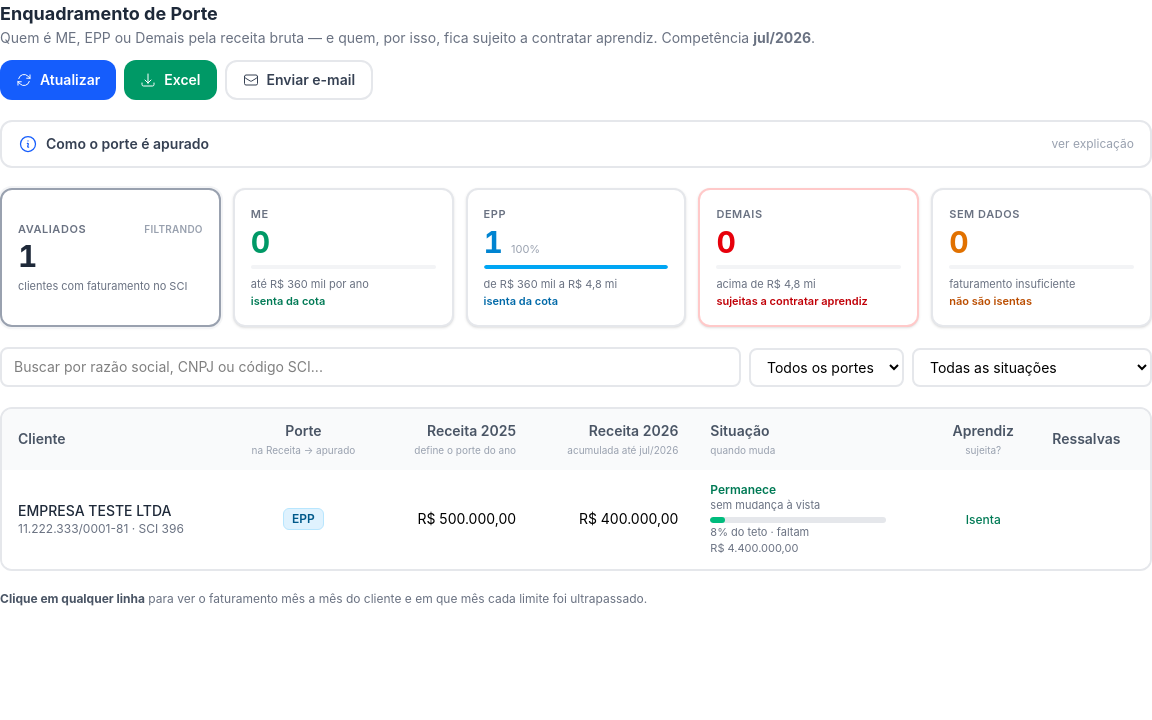
Test case: CotaAprendizagemTab › o envio deixa escolher qual dos dois relatórios sai e para quem
This screenshot has width=1152, height=720.
Expected: the text "EMPRESA TESTE LTDA" is shown, [18,502,172,519]
Click the button "Enviar e-mail" at (299, 80), box [224,60,373,100]
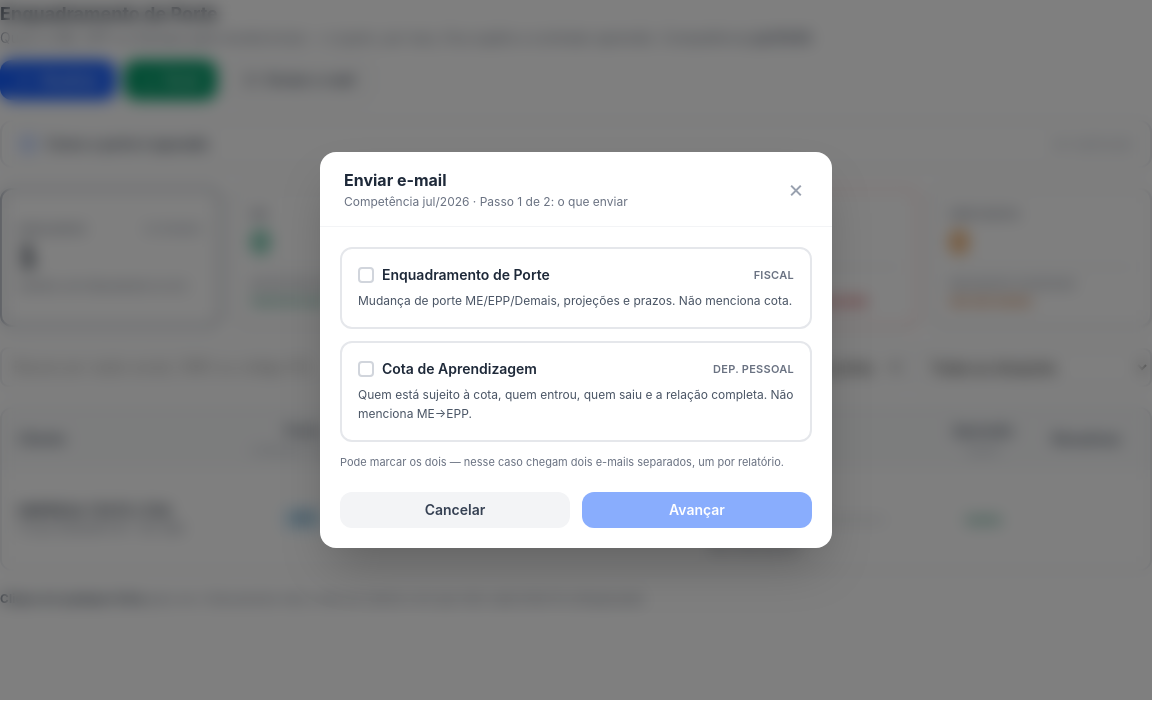
Expected: the checkbox labelled "Enquadramento de Porte" is shown, [340,247,812,329]
Expected: the button "Avançar" is disabled, [582,492,812,528]
Click the checkbox labelled "Cota de Aprendizagem" at (576, 391), box [340,341,812,442]
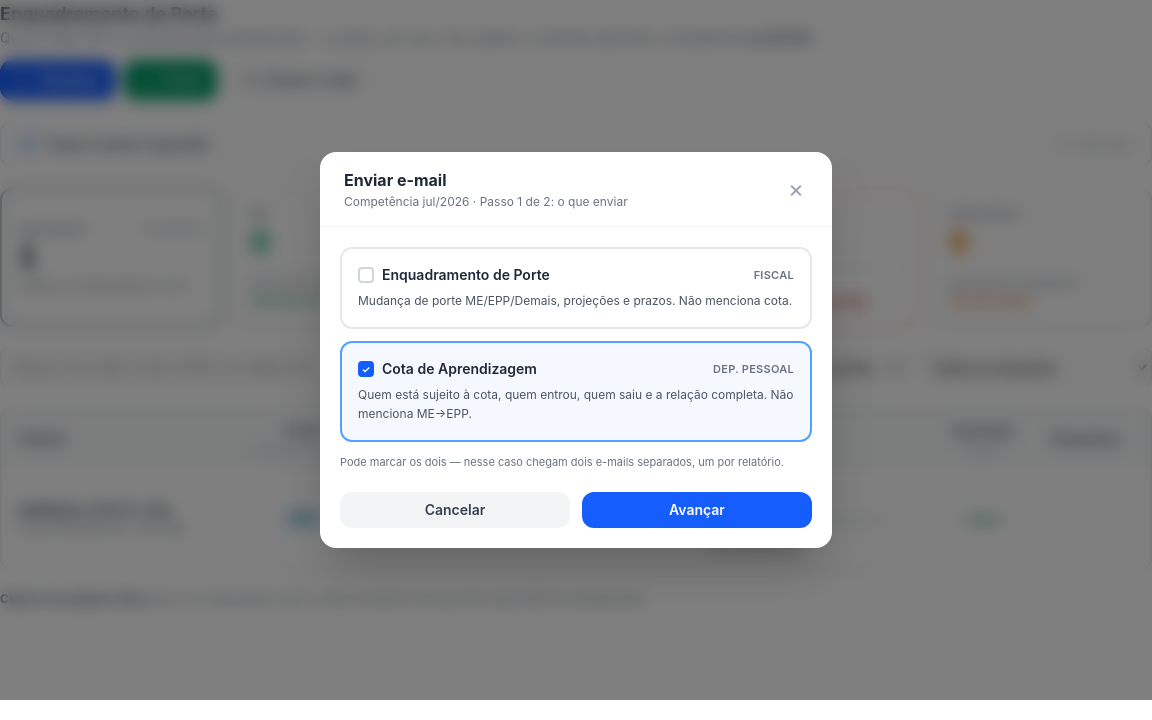
Click the button "Avançar" at (697, 510), box [582,492,812,528]
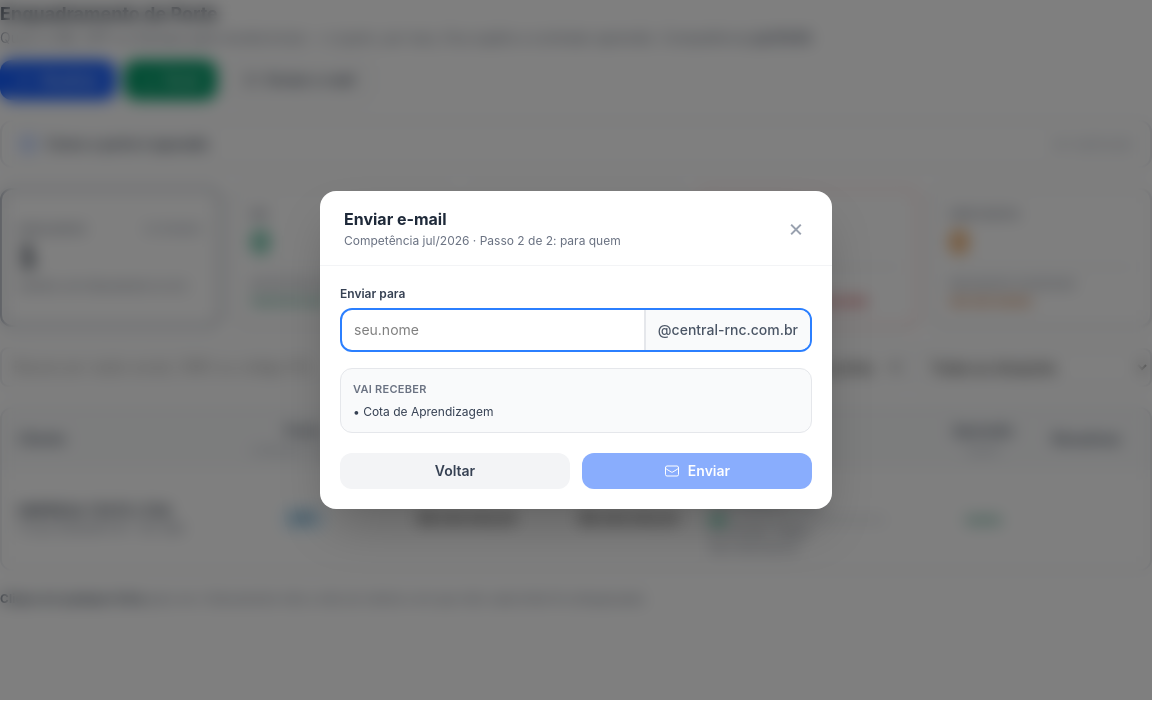
Type "bruno" into the field labelled "Enviar para" at (493, 330), box [342,310,644,350]
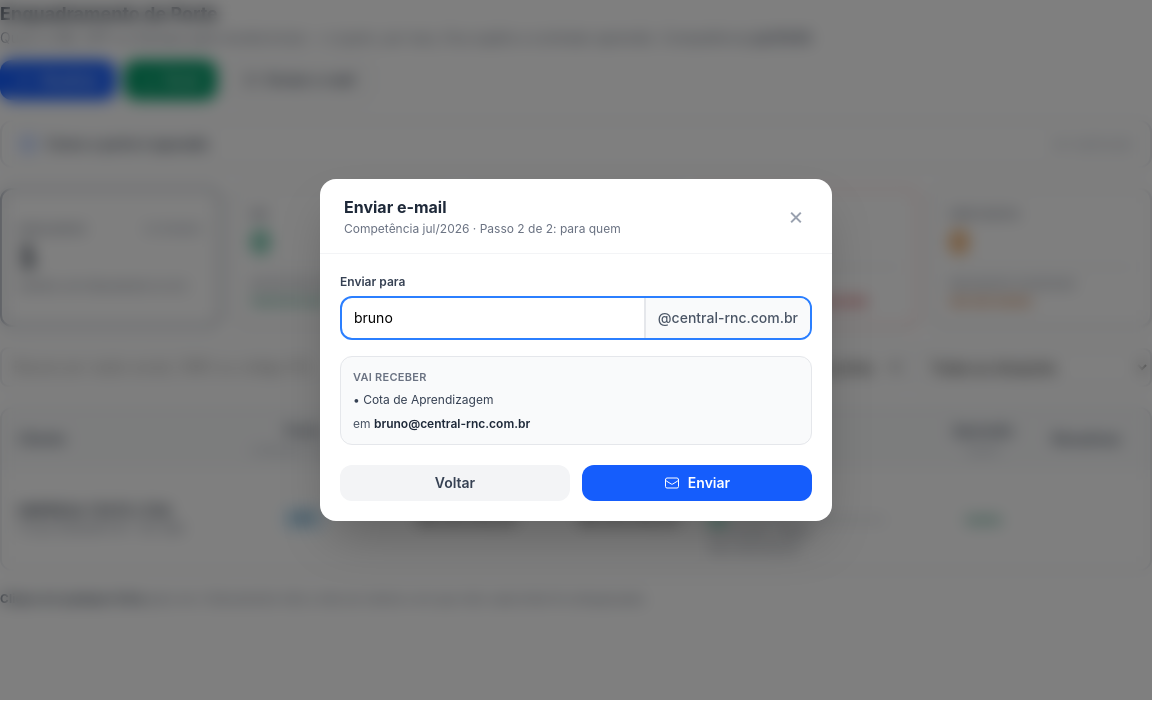
Click the button "Enviar" at (697, 483), box [582,465,812,501]
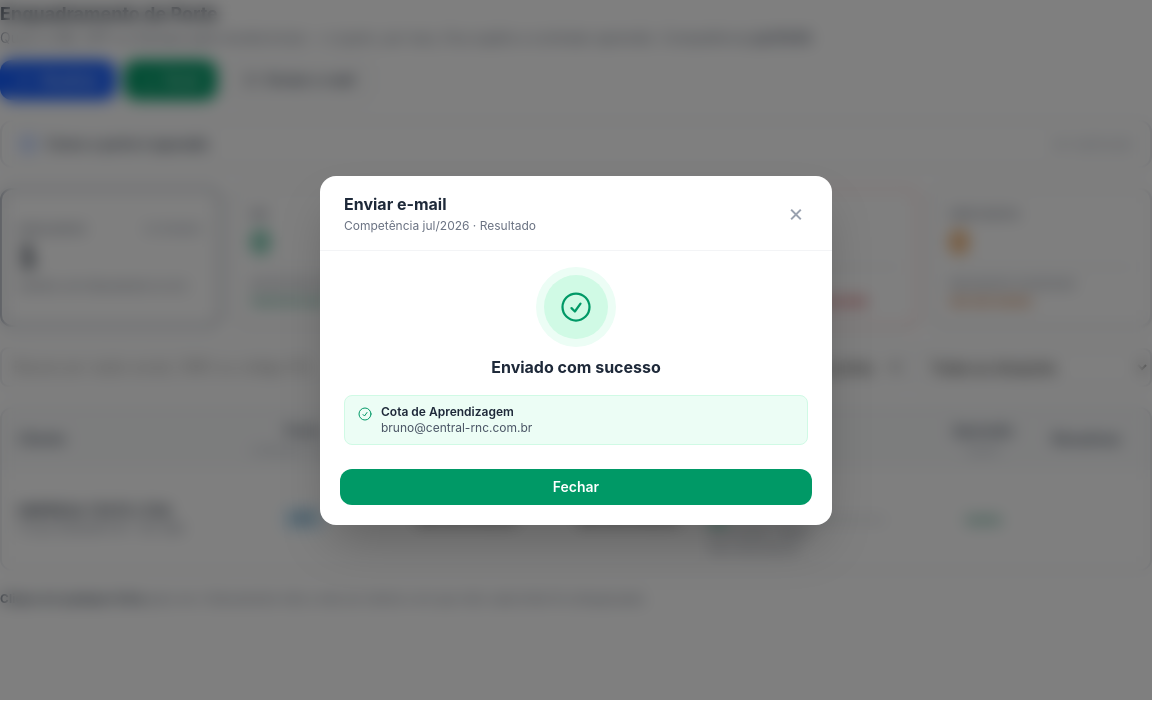
Expected: the text "bruno@central-rnc.com.br" is shown, [381,420,532,436]
Expected: the text "Enviado com sucesso" is shown, [491,354,661,378]
